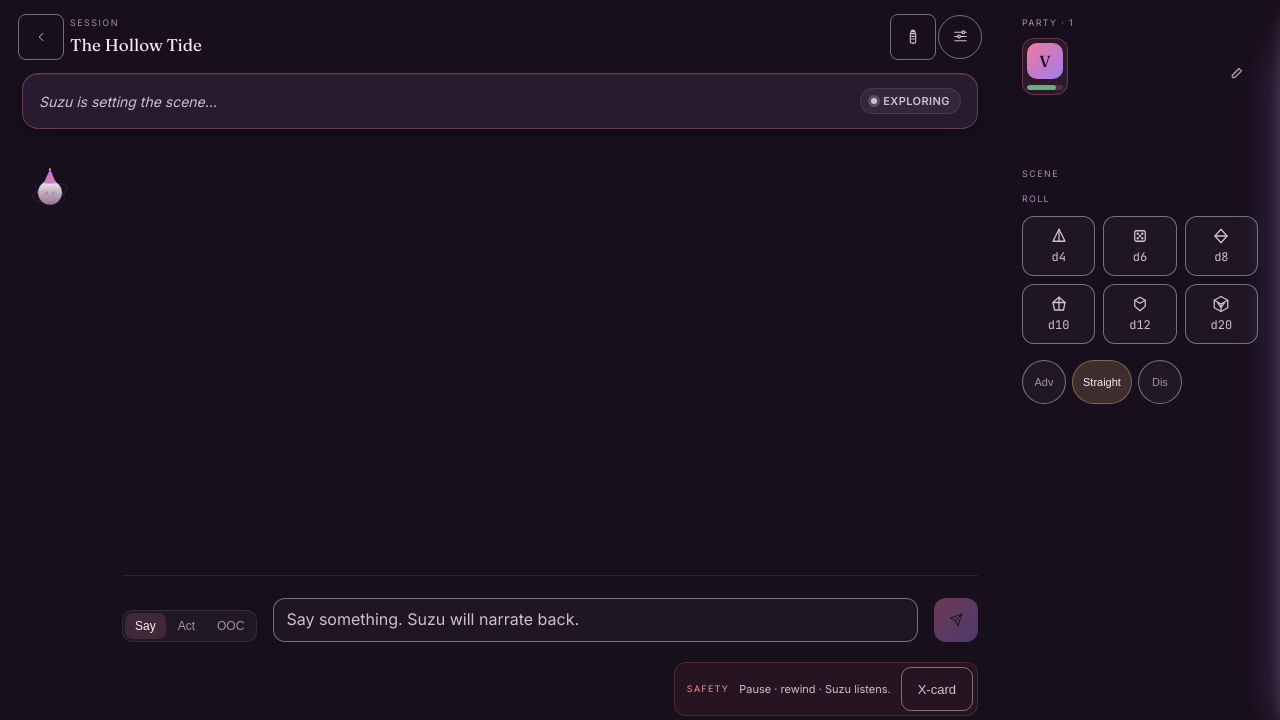
Test: B2-4 — rebind affordance in party panel › rebind button opens the character picker popover
Check: the text "The Hollow Tide" is shown, box top-left (70, 32), bottom-right (202, 57)
Click the button named "Change your character" at (1236,73), box top-left (1214, 51), bottom-right (1258, 95)
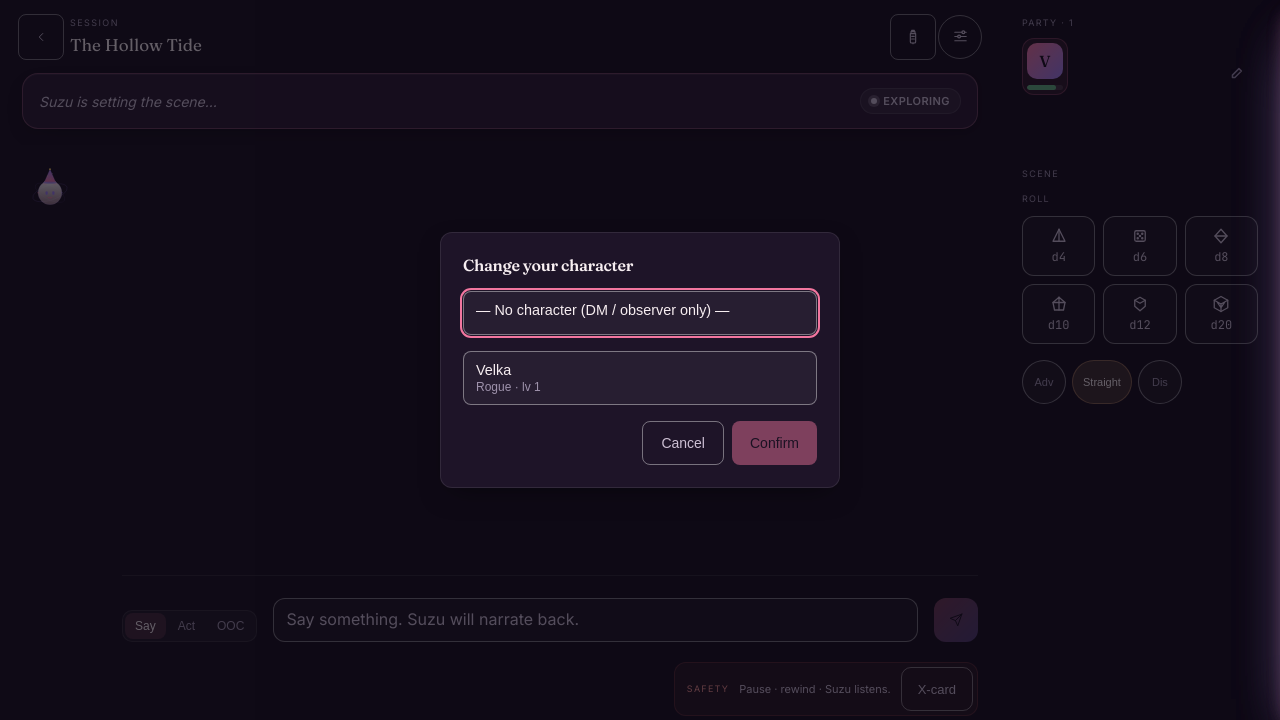
Check: the dialog "Change your character" is shown, box top-left (440, 232), bottom-right (840, 488)
